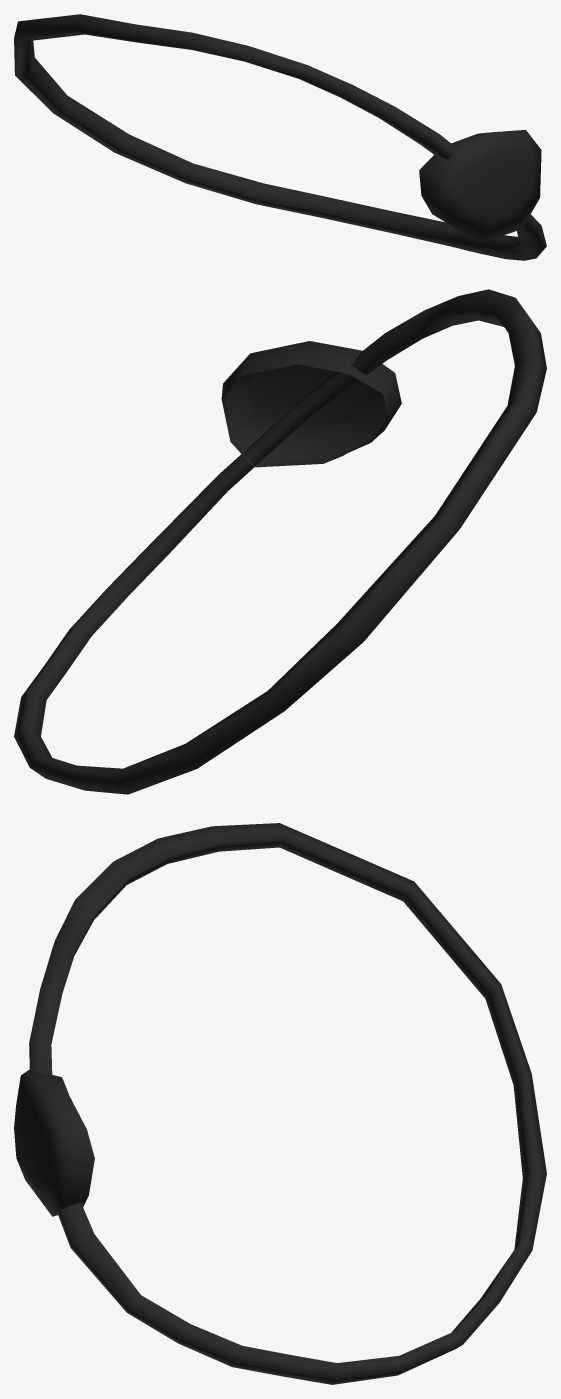
File: Bandage_01.glb
3 renders of one model, top to bottom at view 1: azimuth 30°, elevation 25°; view 2: azimuth 150°, elevation 25°; view 3: azimuth 270°, elevation 25°, orthographic. The views are drawn at different scales.
Visible parts, largest first — view 1: Bandage_01; view 2: Bandage_01; view 3: Bandage_01.
Boxes of the visible parts, left/top/right/bottom form: Bandage_01: left=14, top=14, right=546, bottom=260; Bandage_01: left=14, top=289, right=546, bottom=794; Bandage_01: left=14, top=823, right=546, bottom=1384.
Size of the model in its own units: 0.4872 by 0.4007 by 0.5136.
Materials: 1 (1 with a texture image).
